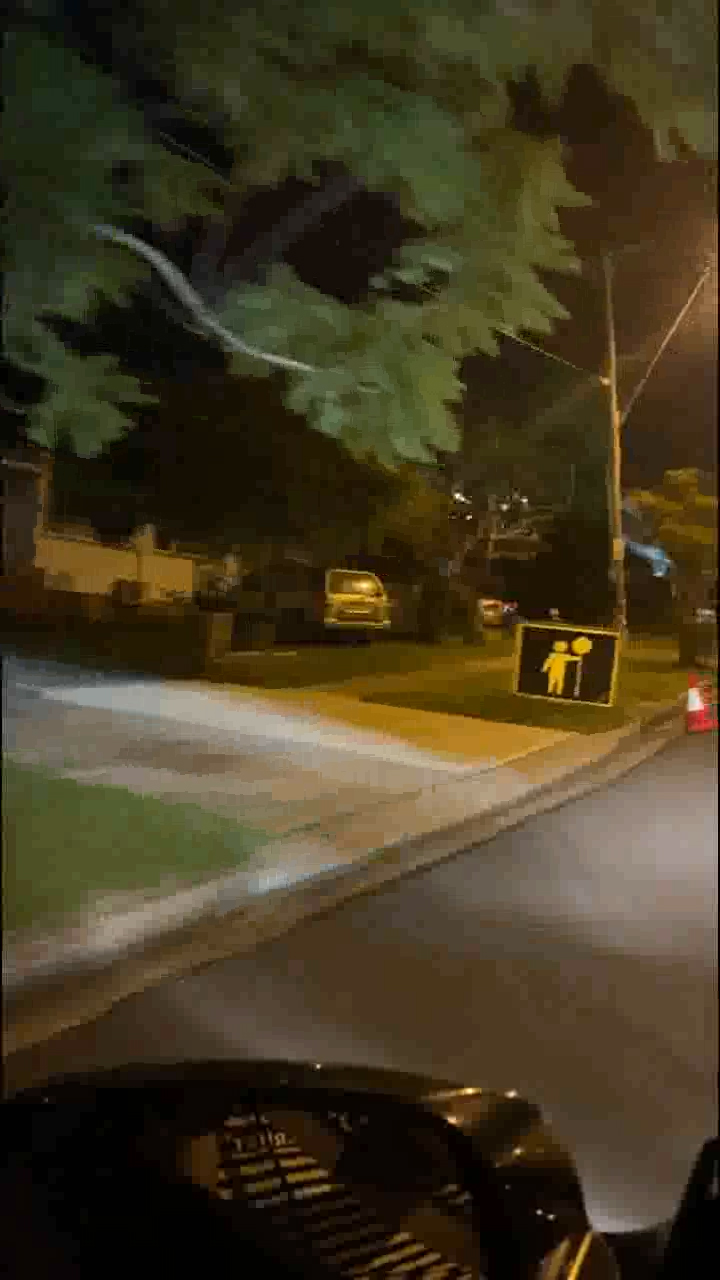prepare to stop board: (517, 625, 623, 707)
road cone: (683, 675, 713, 733)
